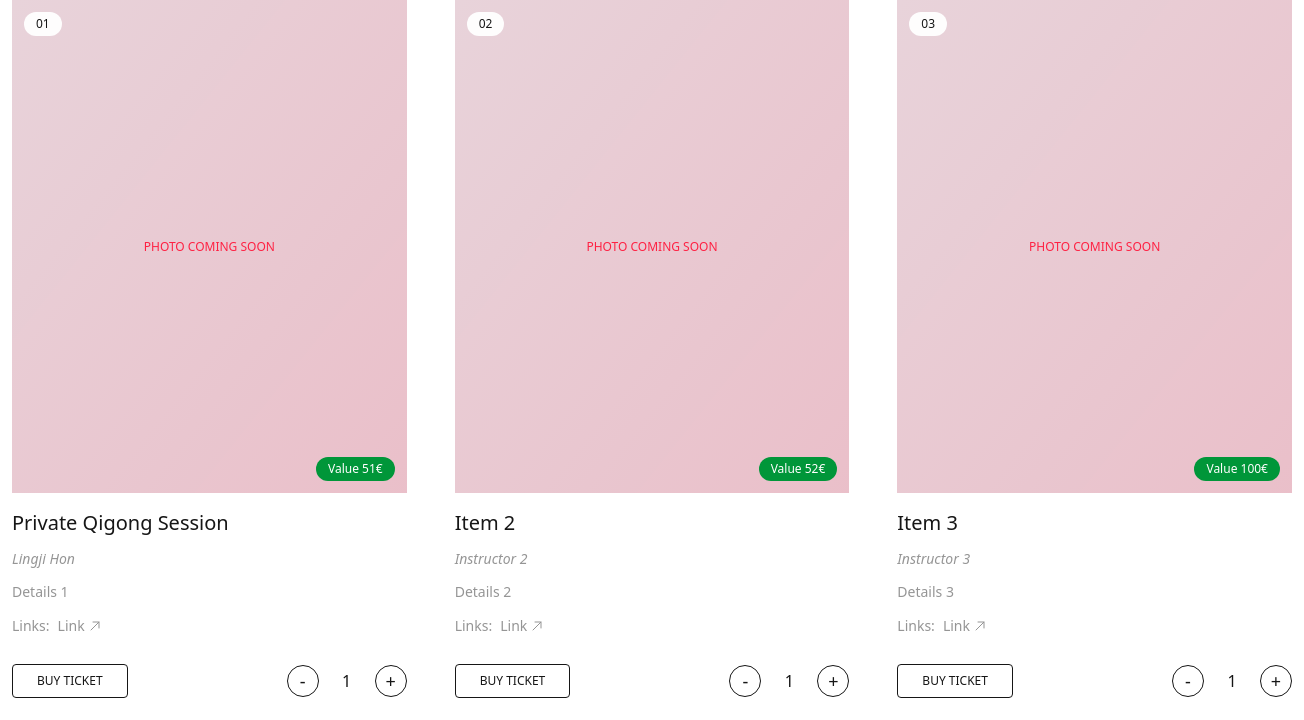
Test: RaffleGrid - PayPal Integration › shows cancel button when PayPal section is displayed
The image size is (1304, 720).
Step 1. Click the button "Buy Ticket" below "Lingji Hon" → (70, 681), box left=12, top=664, right=128, bottom=698
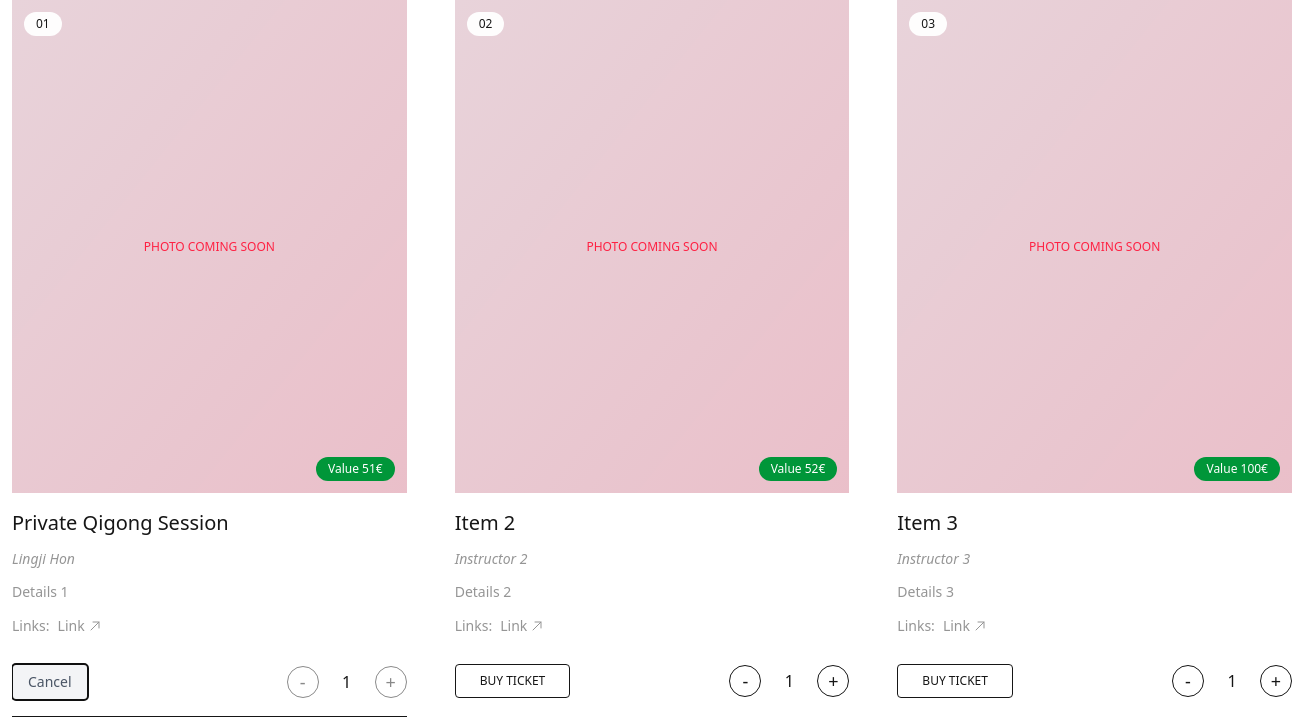
Expected: the button "Cancel" is shown, left=12, top=664, right=88, bottom=700
